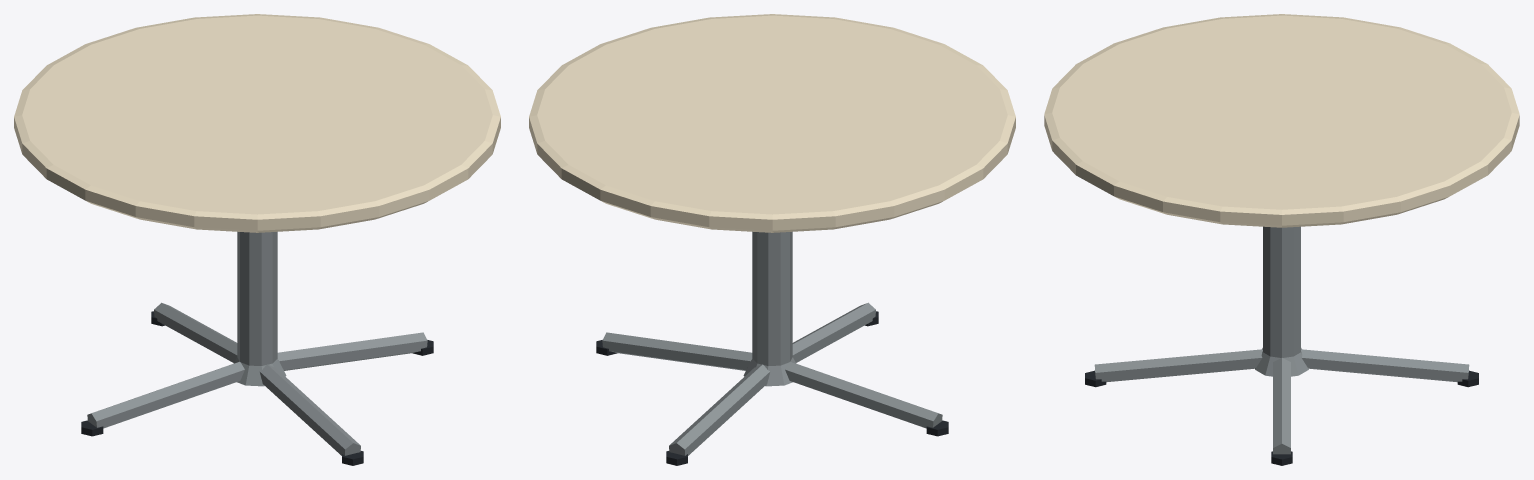
File: party_table_round.glb
3 renders of one model, left to right at view 1: azimuth 30°, elevation 25°; view 2: azimuth 150°, elevation 25°; view 3: azimuth 270°, elevation 25°, orthographic. The views are drawn at different scales.
Parts seen in each view (by area): view 1: party_table_round_body; view 2: party_table_round_body; view 3: party_table_round_body.
Boxes of the visible parts, bbox=[...] form: party_table_round_body: bbox=[14, 14, 500, 465]; party_table_round_body: bbox=[529, 14, 1015, 465]; party_table_round_body: bbox=[1044, 14, 1519, 465].
Size of the model in its own units: 1.2 by 0.7529 by 1.2.
Materials: 3 (3 with a texture image).
